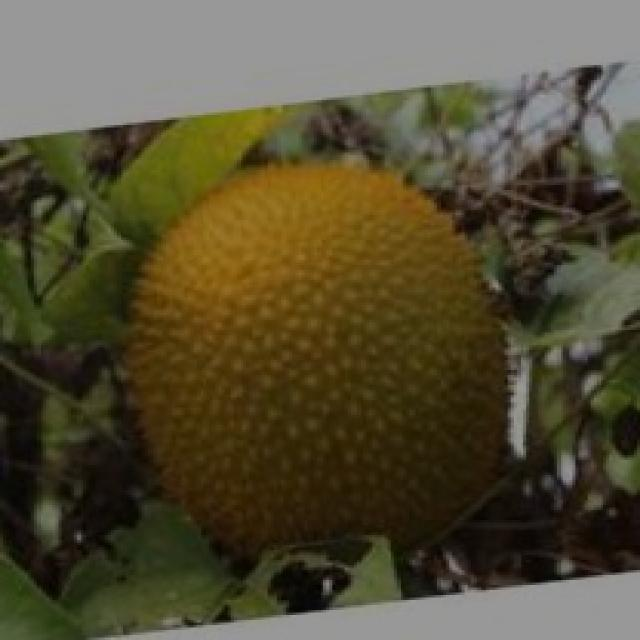Fruit: (138, 125, 544, 557), (594, 95, 640, 257)
